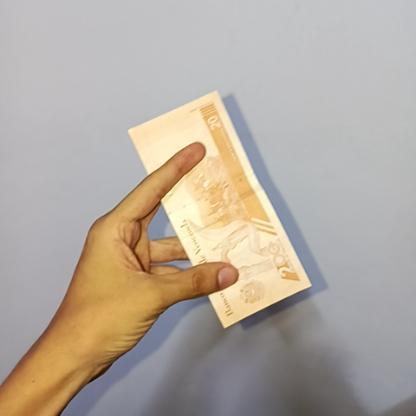twenty-back-vef: (129, 88, 311, 330)
